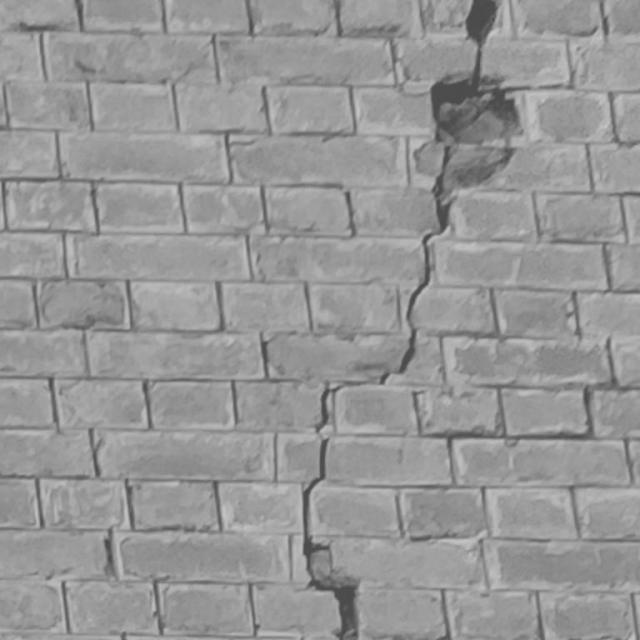crack: (301, 1, 522, 640)
